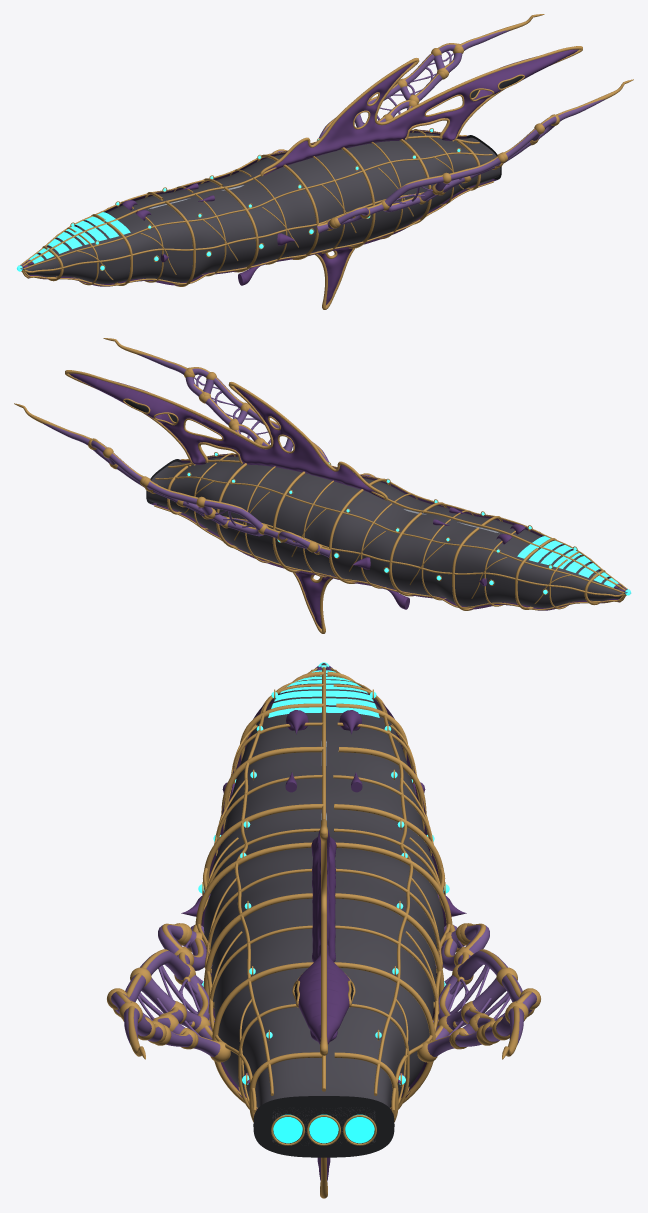
Rendered from model_v40_web.glb.
3 views of the same model, one above another, from view 1: azimuth 30°, elevation 25°; view 2: azimuth 150°, elevation 25°; view 3: azimuth 270°, elevation 25° (orthographic). The views are drawn at different scales.
Parts seen in each view (by area): view 1: EXT__EXT_Liner, EXT__EXT_Copper, EXT__EXT_Blade__NC, EXT__EXT_Copper__NC, EXT__EXT_Wing, EXT__EXT_Wing__NC, EXT__EXT_Teal, EXT__EXT_Hull, EXT__EXT_Blade; view 2: EXT__EXT_Liner, EXT__EXT_Copper, EXT__EXT_Blade__NC, EXT__EXT_Copper__NC, EXT__EXT_Wing__NC, EXT__EXT_Wing, EXT__EXT_Teal, EXT__EXT_Hull; view 3: EXT__EXT_Liner, EXT__EXT_Copper, EXT__EXT_Copper__NC, EXT__EXT_Blade__NC, EXT__EXT_Wing__NC, EXT__EXT_Wing, EXT__INT_Dark, EXT__EXT_Teal, DRV__DRV_Glow__NC, EXT__EXT_Hull, EXT__EXT_Glow, EXT__EXT_Blade.
Part boxes in pixels (<box>): EXT__EXT_Liner: <box>20,132,500,283</box>; EXT__EXT_Copper: <box>20,79,633,286</box>; EXT__EXT_Blade__NC: <box>21,49,578,304</box>; EXT__EXT_Copper__NC: <box>260,14,582,309</box>; EXT__EXT_Wing: <box>317,99,605,233</box>; EXT__EXT_Wing__NC: <box>273,30,510,152</box>; EXT__EXT_Teal: <box>29,212,130,263</box>; EXT__EXT_Hull: <box>20,130,497,286</box>; EXT__EXT_Blade: <box>22,195,294,285</box>; EXT__EXT_Liner: <box>147,456,627,607</box>; EXT__EXT_Copper: <box>103,338,627,610</box>; EXT__EXT_Blade__NC: <box>69,373,625,628</box>; EXT__EXT_Copper__NC: <box>14,370,387,633</box>; EXT__EXT_Wing__NC: <box>42,423,330,557</box>; EXT__EXT_Wing: <box>137,354,374,476</box>; EXT__EXT_Teal: <box>517,536,618,587</box>; EXT__EXT_Hull: <box>150,454,627,610</box>; EXT__EXT_Liner: <box>203,663,444,1107</box>; EXT__EXT_Copper: <box>107,667,452,1121</box>; EXT__EXT_Copper__NC: <box>292,819,540,1198</box>; EXT__EXT_Blade__NC: <box>297,666,466,1181</box>; EXT__EXT_Wing__NC: <box>427,925,536,1056</box>; EXT__EXT_Wing: <box>111,925,220,1056</box>; EXT__INT_Dark: <box>253,1096,394,1157</box>; EXT__EXT_Teal: <box>268,670,379,717</box>; DRV__DRV_Glow__NC: <box>309,1114,374,1143</box>; EXT__EXT_Hull: <box>201,666,446,1114</box>; EXT__EXT_Glow: <box>198,662,449,1084</box>; EXT__EXT_Blade: <box>181,666,321,1083</box>.
Bounding box in the file's own units: 118 × 45.09 × 38.65.
